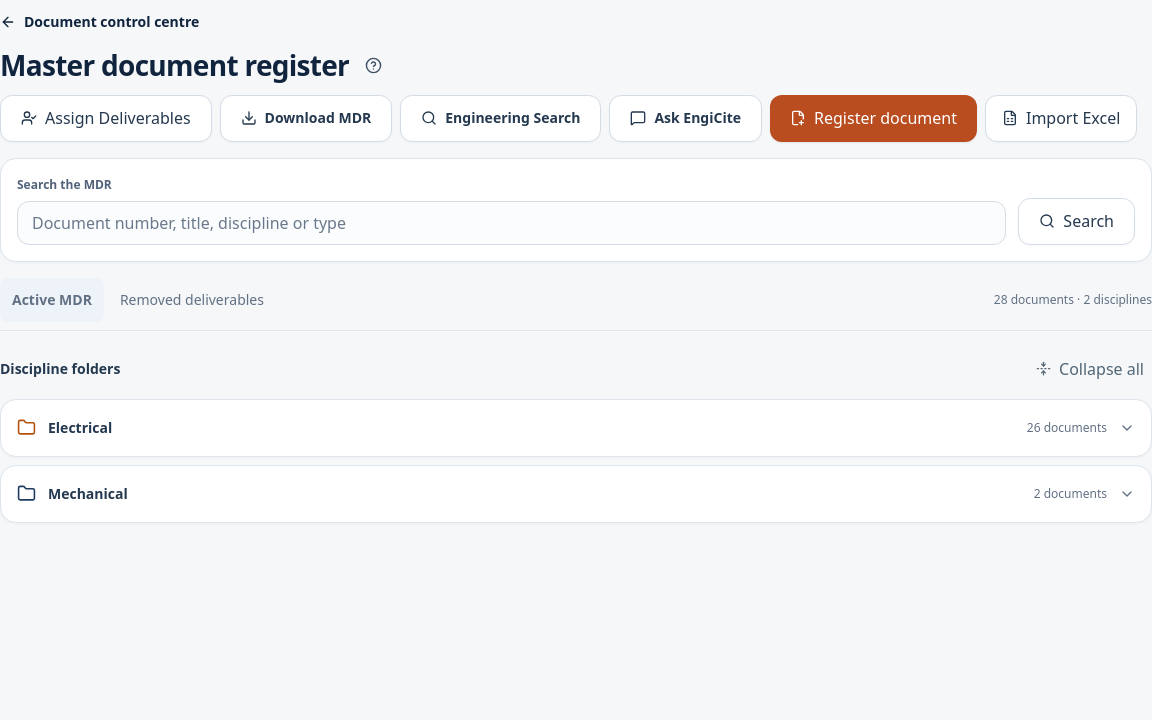
Test case: uses live assignment status instead of register metadata to populate allocation history
The width and height of the screenshot is (1152, 720).
Click the button "Assign Deliverables" at (106, 118), box [0, 95, 212, 142]
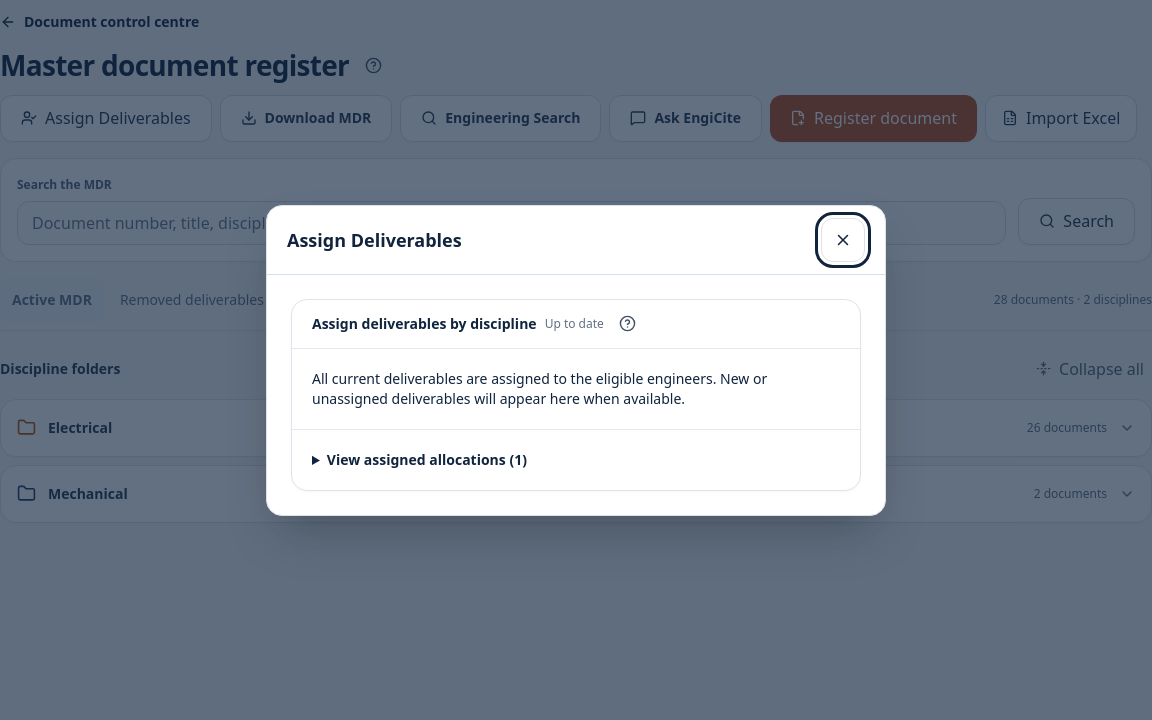
Now the heading "View assigned allocations (1)" is shown, box [327, 450, 527, 468]
